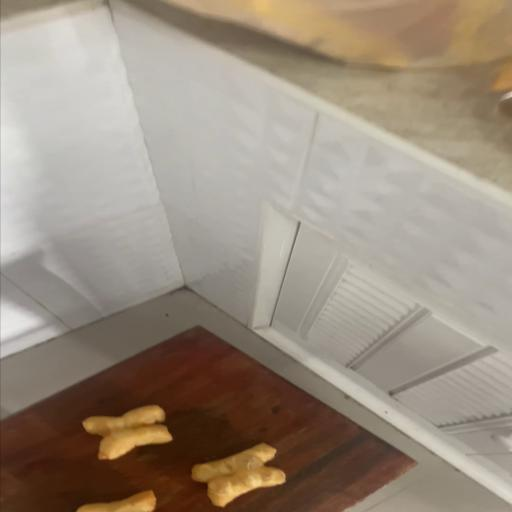street_golden_good: (86, 406, 172, 460)
